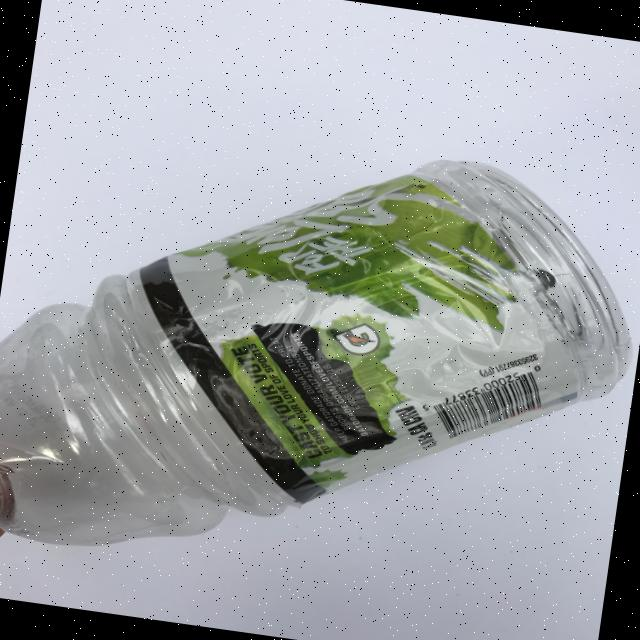plastic: (0, 97, 640, 637)
